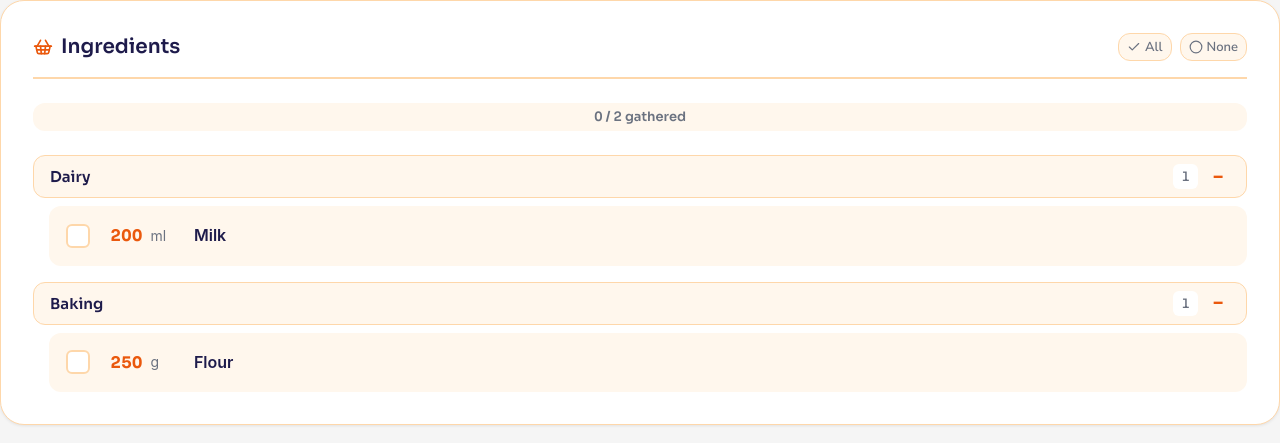
Test case: IngredientList › shows complete message when all ingredients are gathered
Click the checkbox labelled "200 ml Milk" at point(126, 236), box [66,224,226,248]
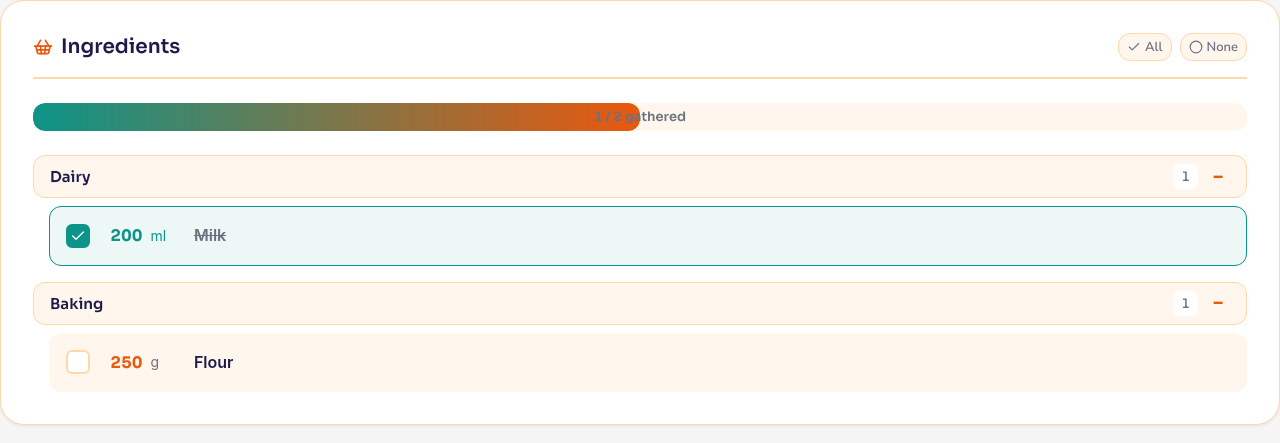
Click the checkbox labelled "250 g Flour" at point(150, 362), box [66,350,233,374]
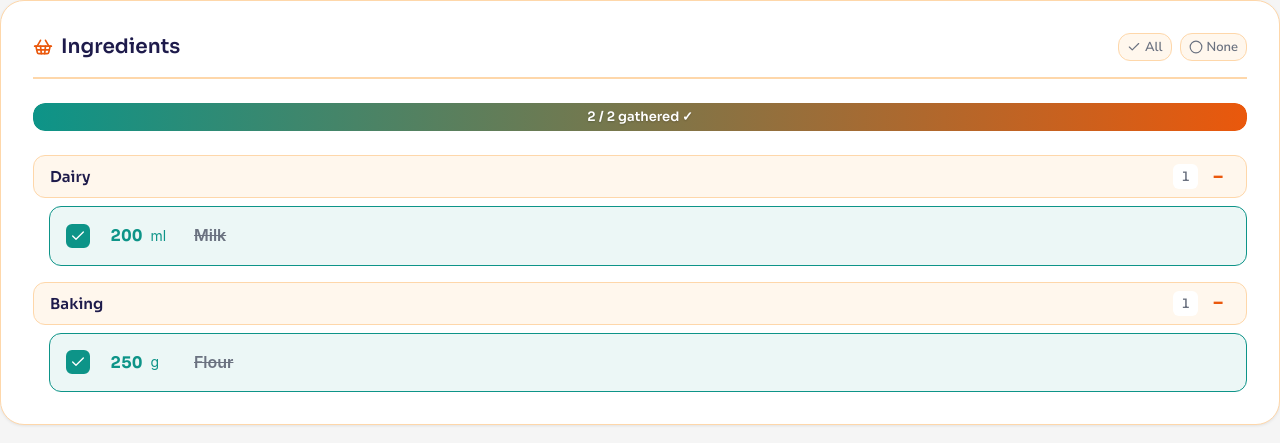
Now the text "2 / 2 gathered ✓" is shown, box [587,108,693,125]
